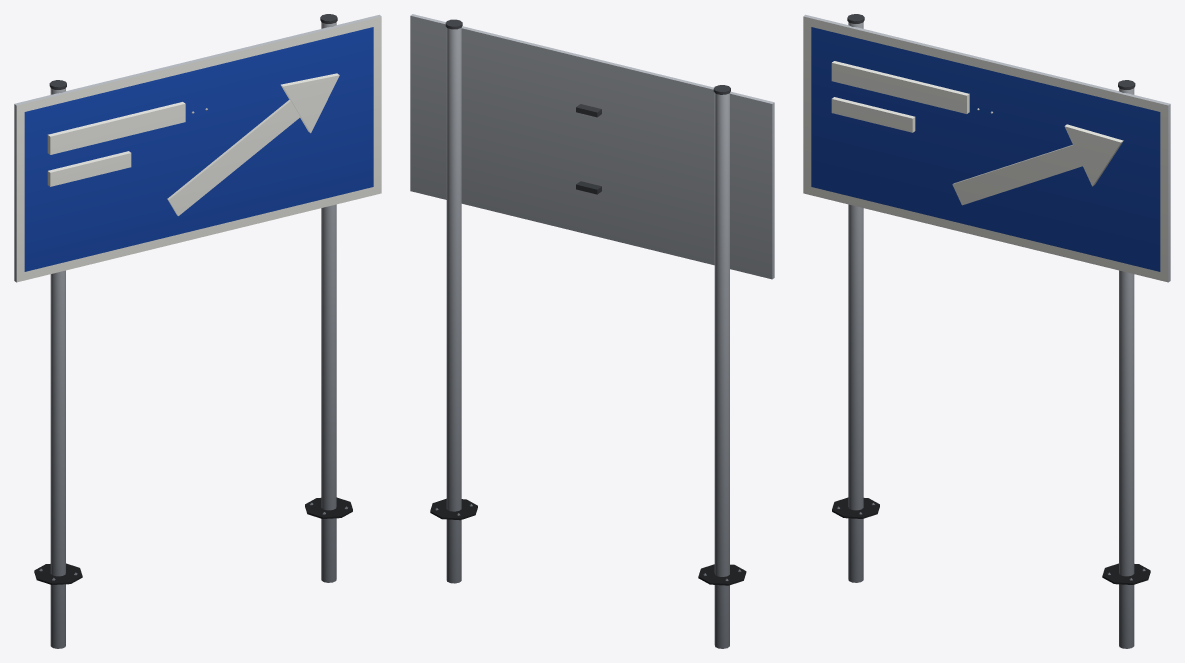
The model's file is Sign_Exit.fbx.
3 renders of one model, left to right at view 1: azimuth 30°, elevation 25°; view 2: azimuth 150°, elevation 25°; view 3: azimuth 330°, elevation 25°, orthographic.
Parts seen in each view (by area): view 1: Sign_Exit_LOD0; view 2: Sign_Exit_LOD0; view 3: Sign_Exit_LOD0.
Part boxes in pixels (x1,y1,x2,y2): Sign_Exit_LOD0: (14,14,381,648); Sign_Exit_LOD0: (410,14,774,648); Sign_Exit_LOD0: (803,14,1170,648).
Size of what is drawn, in the model's own units: 2.7 by 3.97 by 0.32.
1 material, 1 textured.
